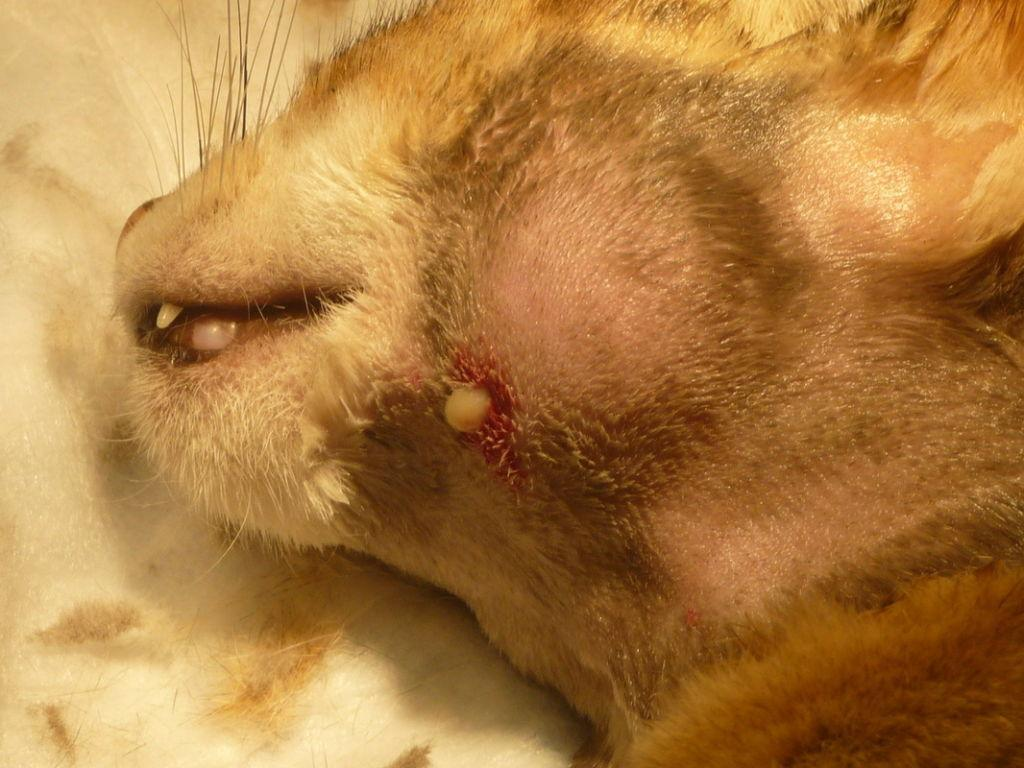infection: (340, 97, 658, 527)
